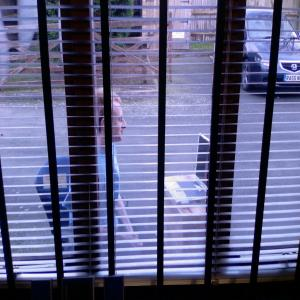Vehicle-registration-plate: (285, 74, 300, 83)
